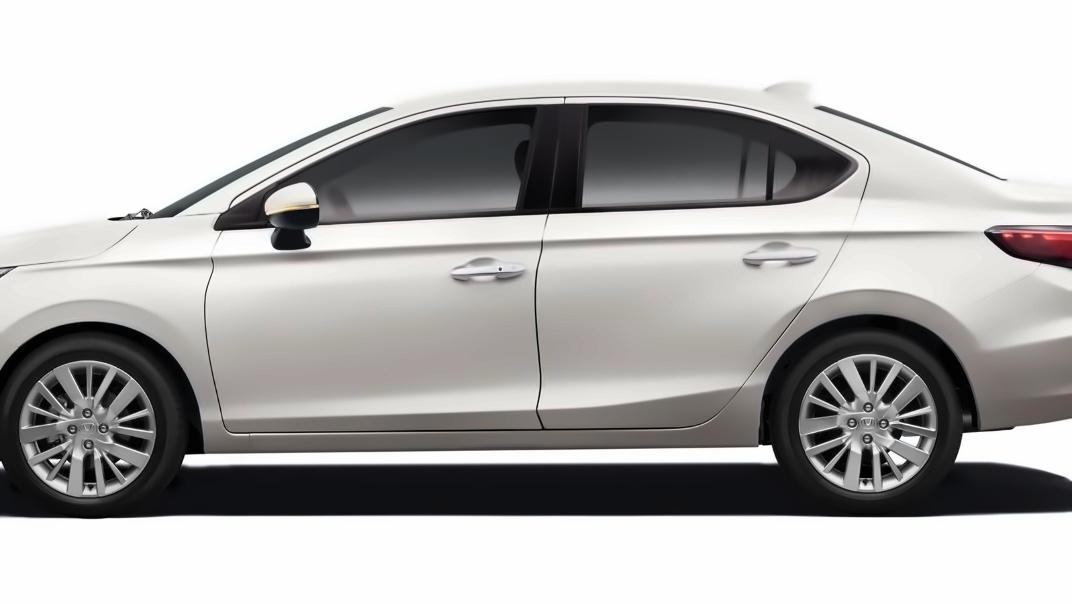Car hood: (0, 214, 136, 270)
Fender - -F-L-: (0, 193, 229, 469)
Fender - -R-L-: (784, 131, 993, 435)
Passenger-s door - -F-L-: (199, 66, 564, 447)
Passenger-s door - -R-L-: (533, 64, 876, 456)
Rear bumper: (936, 264, 1072, 432)
Rear light - -L-: (986, 222, 1072, 281)
Side bumper - -L-: (173, 388, 783, 479)
Side mirror - -L-: (263, 183, 327, 248)
